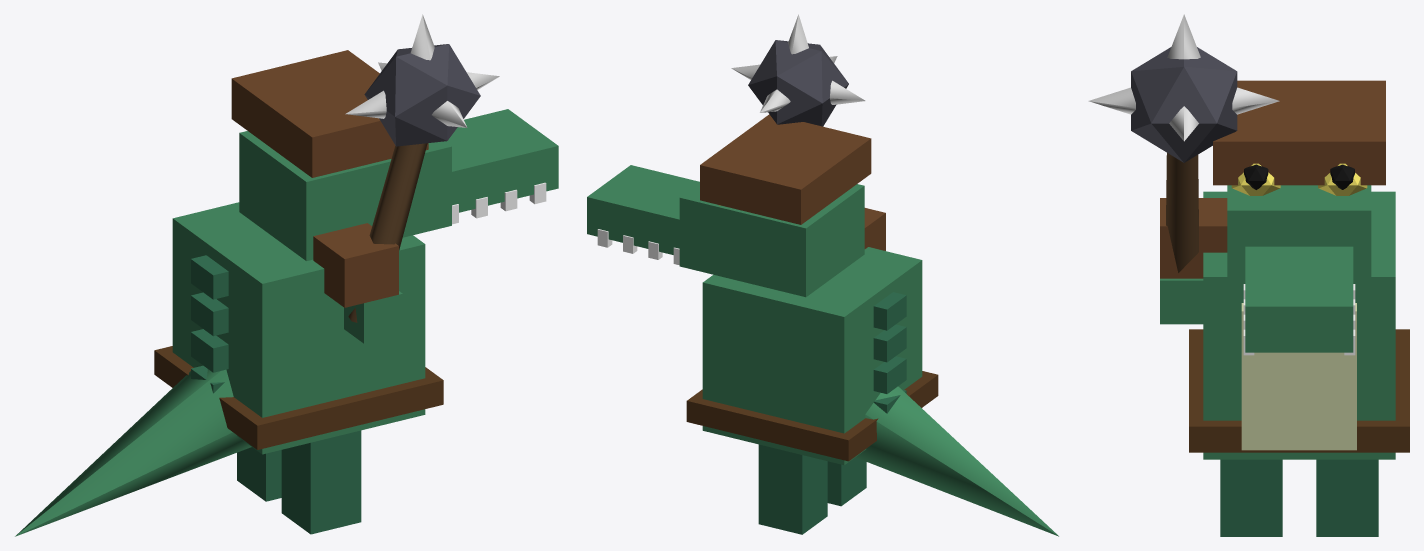
The model's file is level2.glb.
The picture shows the model from 3 angles, left to right: view 1: azimuth 30°, elevation 25°; view 2: azimuth 150°, elevation 25°; view 3: azimuth 270°, elevation 25°; orthographic projection. The views are drawn at different scales.
Parts seen in each view (by area): view 1: object 3, arm, object 27, object 11, object 25, object 5, object 12, object 2, object 28, object 1, object 6, object 7 (+1 smaller); view 2: object 3, object 11, object 27, object 25, arm, object 12, object 5, object 1, object 2, object 6, object 7, object 8 (+1 smaller); view 3: arm, object 3, object 27, object 4, object 12, object 11, object 5, object 1, object 2, object 28, object 13, object 15 (+2 smaller).
Part boxes in pixels (x1=…): object 3: x1=172, y1=202, x2=425, y2=454; arm: x1=344, y1=14, x2=499, y2=343; object 27: x1=231, y1=50, x2=428, y2=177; object 11: x1=239, y1=131, x2=451, y2=261; object 25: x1=15, y1=365, x2=251, y2=536; object 5: x1=154, y1=346, x2=443, y2=449; object 12: x1=445, y1=109, x2=558, y2=212; object 2: x1=281, y1=430, x2=361, y2=534; object 28: x1=313, y1=223, x2=398, y2=307; object 1: x1=237, y1=447, x2=281, y2=501; object 6: x1=191, y1=255, x2=228, y2=299; object 7: x1=191, y1=292, x2=228, y2=336; object 3: x1=702, y1=247, x2=922, y2=465; object 11: x1=679, y1=183, x2=864, y2=297; object 27: x1=700, y1=114, x2=871, y2=224; object 25: x1=855, y1=386, x2=1058, y2=536; arm: x1=731, y1=14, x2=865, y2=126; object 12: x1=587, y1=165, x2=699, y2=254; object 5: x1=686, y1=371, x2=938, y2=461; object 1: x1=758, y1=444, x2=827, y2=534; object 2: x1=827, y1=457, x2=866, y2=506; object 6: x1=873, y1=292, x2=906, y2=330; object 7: x1=873, y1=324, x2=906, y2=362; object 8: x1=873, y1=356, x2=906, y2=393; arm: x1=1088, y1=14, x2=1279, y2=324; object 3: x1=1203, y1=191, x2=1395, y2=459; object 27: x1=1213, y1=80, x2=1385, y2=185; object 4: x1=1241, y1=303, x2=1356, y2=450; object 12: x1=1245, y1=246, x2=1353, y2=352; object 11: x1=1227, y1=185, x2=1371, y2=295; object 5: x1=1189, y1=329, x2=1409, y2=452; object 1: x1=1316, y1=459, x2=1378, y2=536; object 2: x1=1220, y1=459, x2=1282, y2=536; object 28: x1=1160, y1=198, x2=1227, y2=278; object 13: x1=1318, y1=163, x2=1367, y2=195; object 15: x1=1231, y1=163, x2=1280, y2=195.
Bounding box in the file's own units: 1.47 × 1.38 × 0.737.
